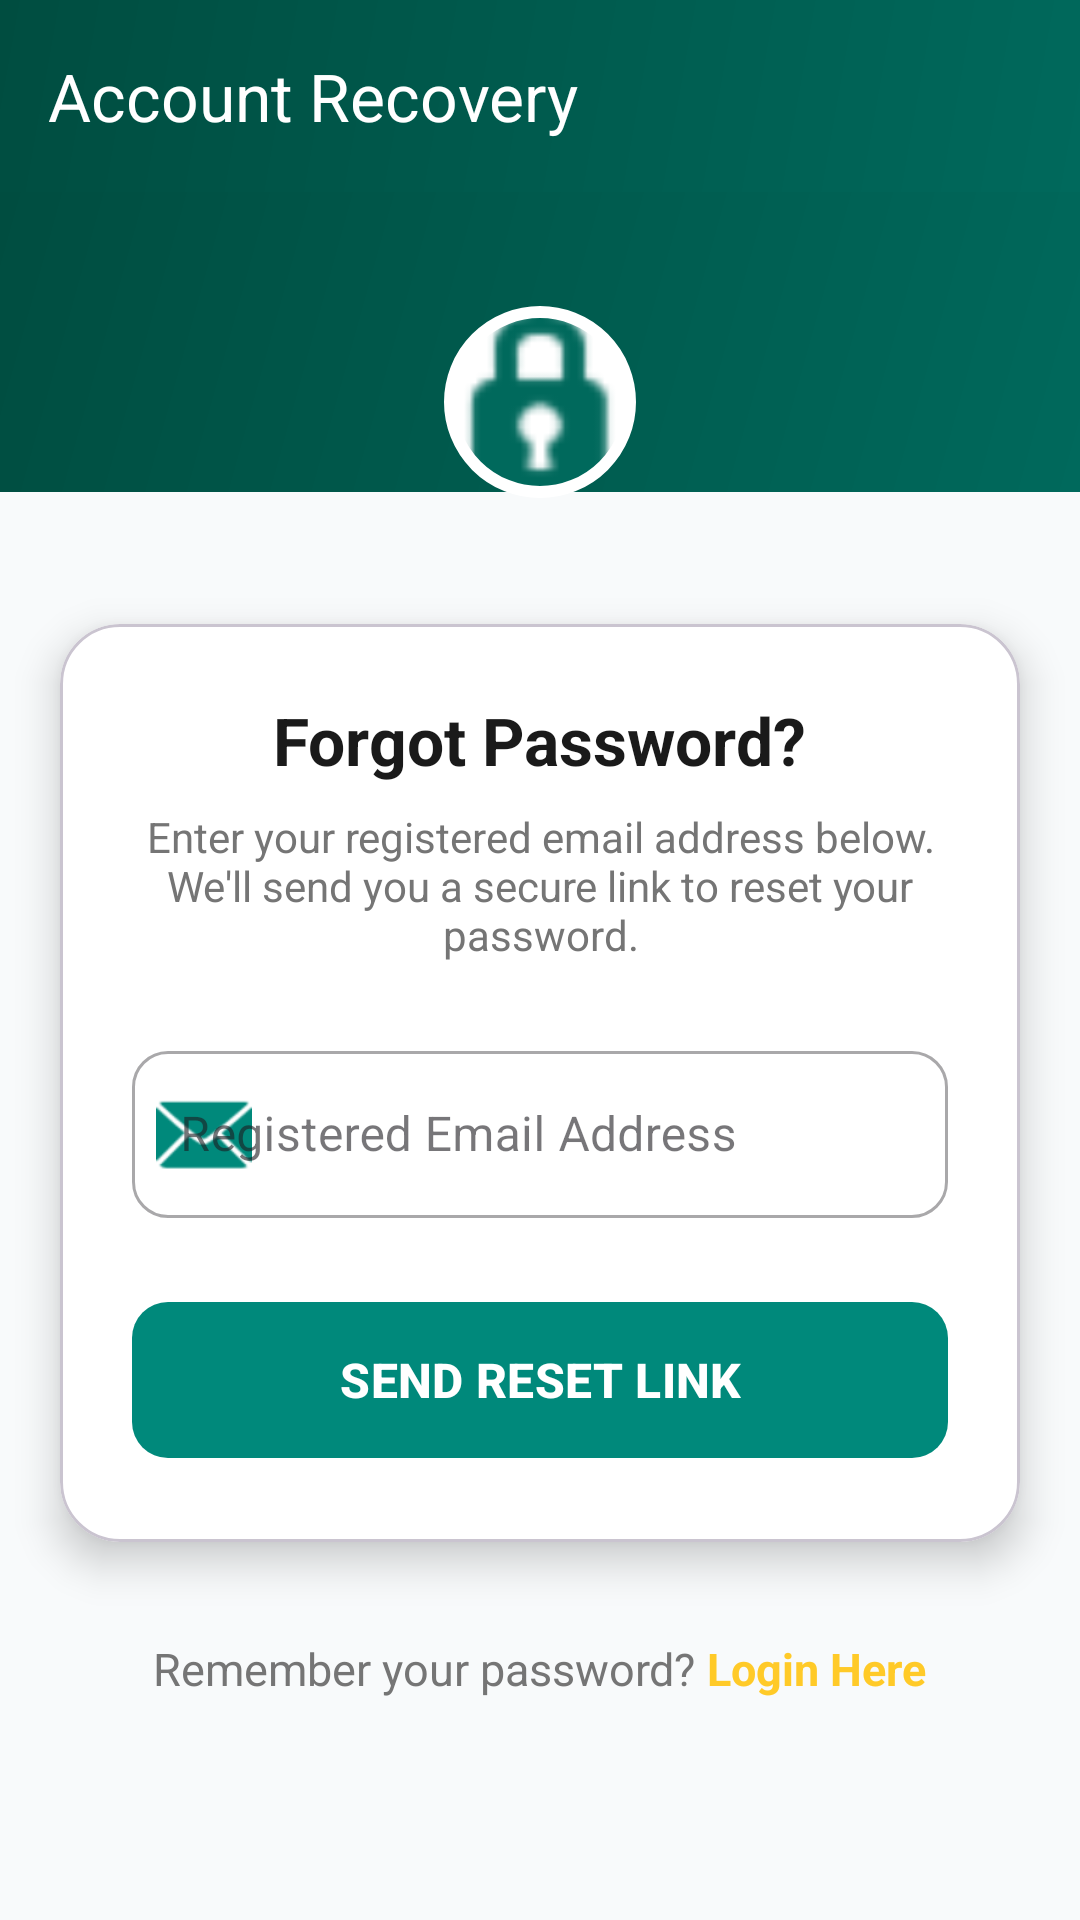

Screen size 1080 × 1920. Icon name, then its center in pixels as [x,y]:
secure: [540,402]
